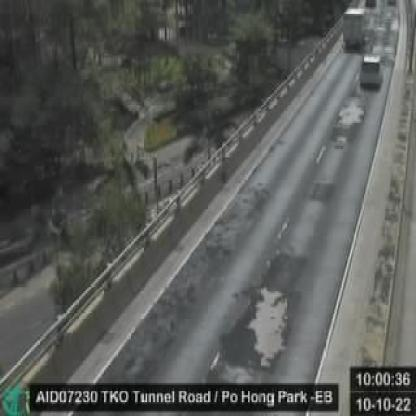Car: (359, 53, 382, 89)
Truck: (342, 6, 367, 50)
